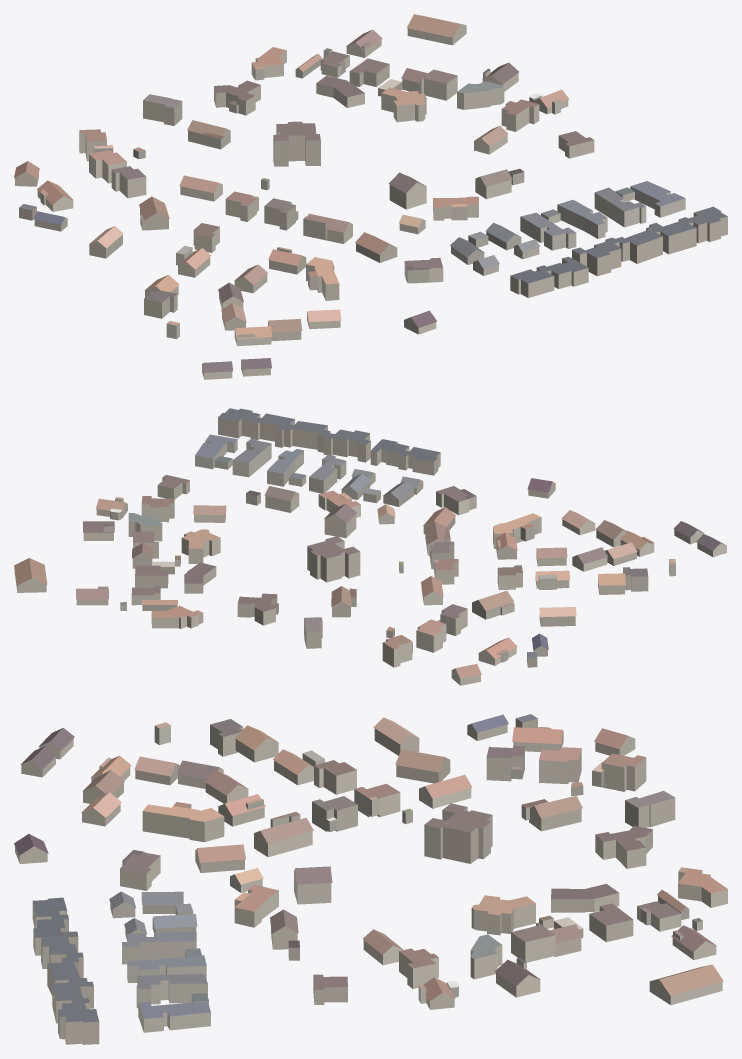
3 views of the same model, one above another, from view 1: azimuth 30°, elevation 25°; view 2: azimuth 150°, elevation 25°; view 3: azimuth 270°, elevation 25° (orthographic). The views are drawn at different scales.
Parts seen in each view (by area): view 1: tuile; view 2: tuile; view 3: tuile.
Boxes of the visible parts, box(x1,y1,x2,y2) form: tuile: box(14, 14, 727, 379); tuile: box(14, 408, 726, 685); tuile: box(14, 714, 727, 1044).
Size of the model in its own units: 266 by 30.42 by 252.
